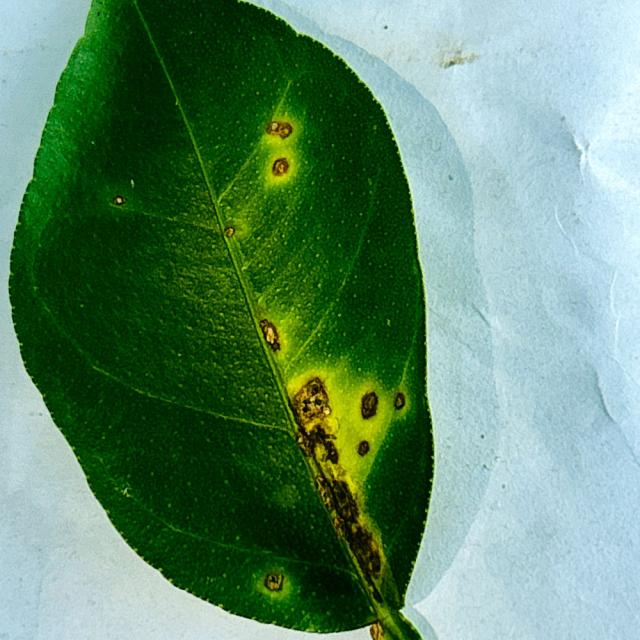Anthracnose: (286, 372, 335, 435), (249, 295, 295, 360), (349, 378, 388, 432), (268, 113, 307, 152), (254, 567, 294, 602), (100, 183, 141, 215), (218, 220, 245, 243), (368, 619, 387, 638)
Lemon: (8, 0, 438, 639)
